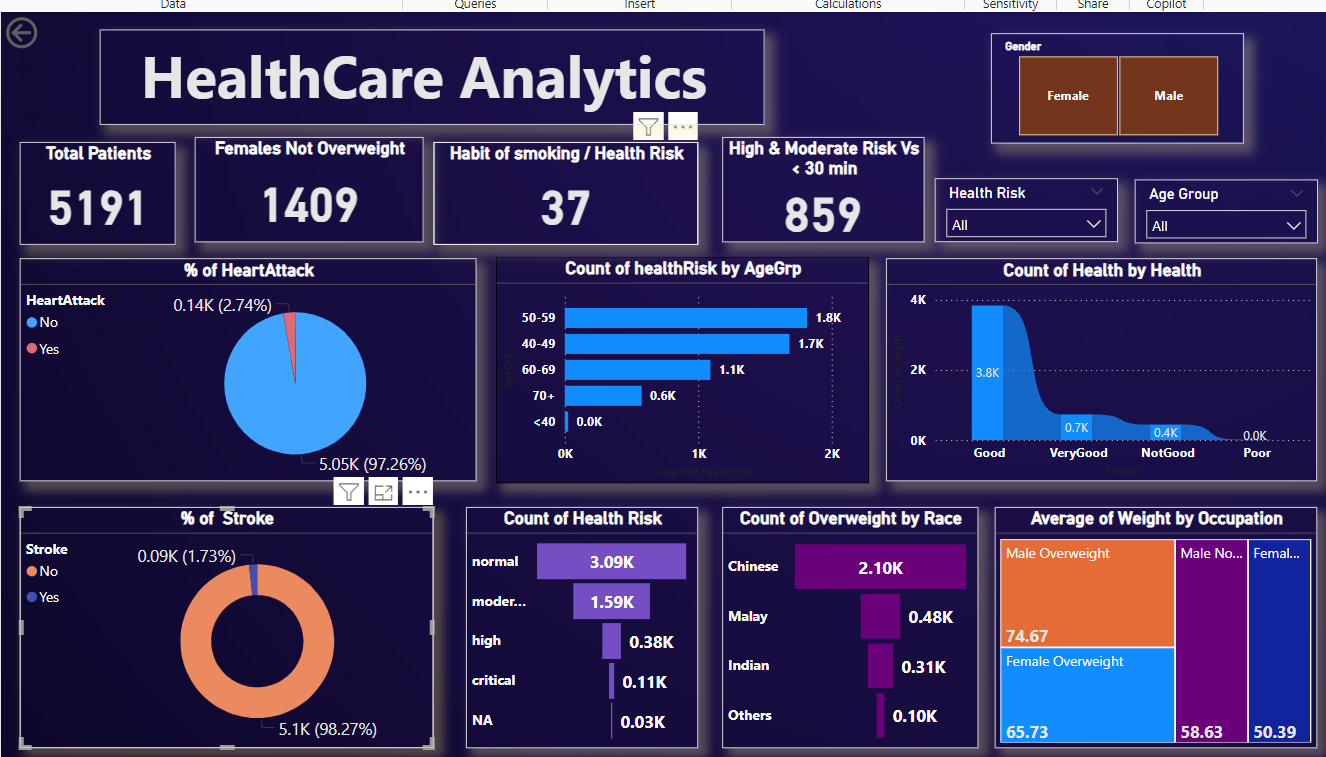

Layout of this report page (visuals, bound fields, positions):
{"tool":"powerbi","page":{"name":"Page 1","canvas":[1280,720],"ordinal":0},"visuals":[{"type":"card","title":"Total  Patients","fields":{"Values":["CountNonNull(Patient_History_data xlsx - Sample_Data.scnZone)"]},"box":[18.7,124.9,150.7,99],"z":0},{"type":"pieChart","title":"% of HeartAttack ","fields":{"Category":["Patient_History_data xlsx - Sample_Data.HeartAttack"],"Y":["CountNonNull(Patient_History_data xlsx - Sample_Data.HeartAttack)"]},"box":[18.7,238.3,440.6,215.3],"z":1000},{"type":"donutChart","title":" % of  Stroke","fields":{"Category":["Patient_History_data xlsx - Sample_Data.Stroke"],"Y":["CountNonNull(Patient_History_data xlsx - Sample_Data.Stroke)"]},"box":[18.7,478,399,242.6],"z":2000},{"type":"clusteredBarChart","fields":{"Y":["CountNonNull(Patient_History_data xlsx - Sample_Data.healthRisk)"],"Category":["Patient_History_data xlsx - Sample_Data.AgeGrp"]},"box":[478,236.8,360.3,218.2],"z":3000},{"type":"ribbonChart","fields":{"Category":["Patient_History_data xlsx - Sample_Data.Health"],"Y":["CountNonNull(Patient_History_data xlsx - Sample_Data.Health)"]},"box":[854,238.3,416.2,215.3],"z":4000},{"type":"funnel","title":"Count of Health Risk","fields":{"Category":["Patient_History_data xlsx - Sample_Data.healthRisk"],"Y":["CountNonNull(Patient_History_data xlsx - Sample_Data.healthRisk)"]},"box":[449.3,478,223.9,232.5],"z":5000},{"type":"funnel","title":"Count of Overweight by Race","fields":{"Y":["CountNonNull(Patient_History_data xlsx - Sample_Data.Overweight)"],"Category":["Patient_History_data xlsx - Sample_Data.Race"]},"box":[696.1,478,246.9,232.5],"z":6000},{"type":"card","title":"Females Not Overweight ","fields":{"Values":["CountNonNull(Patient_History_data xlsx - Sample_Data.Overweight)"]},"box":[186.6,120.6,221,101.9],"z":7000},{"type":"slicer","fields":{"Values":["Patient_History_data xlsx - Sample_Data.AgeGrp"]},"box":[1093.7,162.2,176.5,61.7],"z":8000},{"type":"slicer","fields":{"Values":["Patient_History_data xlsx - Sample_Data.Gender"]},"box":[955.9,20.1,244,106.2],"z":9000},{"type":"slicer","fields":{"Values":["Patient_History_data xlsx - Sample_Data.healthRisk"]},"box":[901.4,160.8,176.5,61.7],"z":10000},{"type":"card","title":"Habit of smoking / Health Risk","fields":{"Values":["CountNonNull(Patient_History_data xlsx - Sample_Data.Smoking)"]},"box":[417.7,124.9,255.5,99],"z":11000},{"type":"actionButton","box":[0,0,100,40],"z":12000},{"type":"card","title":"High & Moderate Risk Vs <  30 min","fields":{"Values":["CountNonNull(Patient_History_data xlsx - Sample_Data.healthRisk)"]},"box":[696.1,120.6,195.2,101.9],"z":13000},{"type":"treemap","title":"Average of Weight by Occupation","fields":{"Values":["Avg(Patient_History_data xlsx - Sample_Data.Weight)"],"Details":["Patient_History_data xlsx - Sample_Data.Overweight"]},"box":[958.8,478,311.5,232.5],"z":13001},{"type":"textbox","box":[94.7,17.2,641.6,91.9],"z":13002}]}

Visuals, with their boxes in screenshot pixels (x1, y1, x2, y2):
"Total  Patients" card: Rect(29, 145, 183, 246)
"% of HeartAttack " pieChart: Rect(29, 261, 480, 481)
" % of  Stroke" donutChart: Rect(29, 506, 437, 753)
clusteredBarChart - CountNonNull(Patient_History_data xlsx - Sample_Data.healthRisk) x Patient_History_data xlsx - Sample_Data.AgeGrp: Rect(499, 259, 867, 482)
ribbonChart - Patient_History_data xlsx - Sample_Data.Health x CountNonNull(Patient_History_data xlsx - Sample_Data.Health): Rect(883, 261, 1308, 481)
"Count of Health Risk" funnel: Rect(469, 506, 698, 743)
"Count of Overweight by Race" funnel: Rect(722, 506, 974, 743)
"Females Not Overweight " card: Rect(201, 140, 427, 245)
slicer - Patient_History_data xlsx - Sample_Data.AgeGrp: Rect(1128, 183, 1308, 246)
slicer - Patient_History_data xlsx - Sample_Data.Gender: Rect(987, 38, 1236, 146)
slicer - Patient_History_data xlsx - Sample_Data.healthRisk: Rect(931, 182, 1112, 245)
"Habit of smoking / Health Risk" card: Rect(437, 145, 698, 246)
actionButton: Rect(10, 17, 113, 58)
"High & Moderate Risk Vs <  30 min" card: Rect(722, 140, 921, 245)
"Average of Weight by Occupation" treemap: Rect(990, 506, 1308, 743)
textbox: Rect(107, 35, 763, 129)
